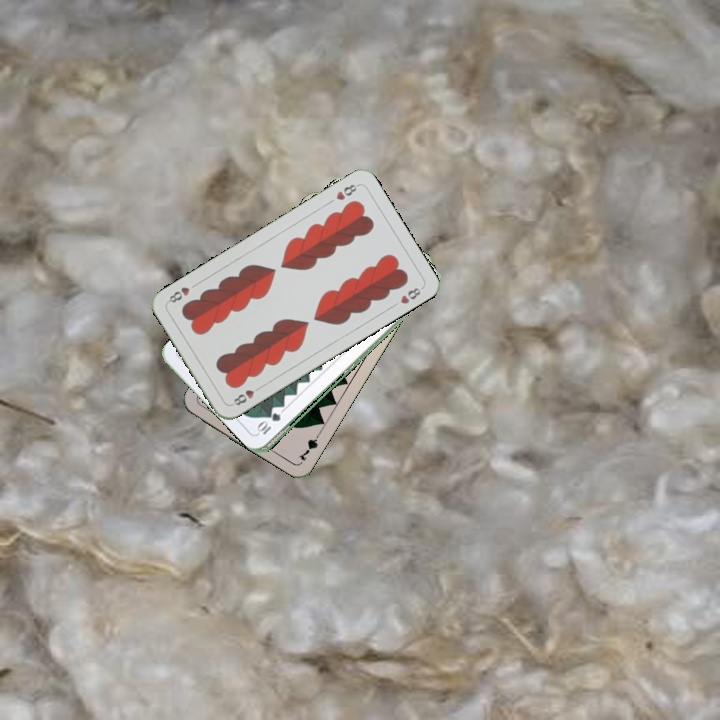G10: (254, 409, 283, 437)
G7: (294, 427, 324, 464)
H8: (228, 382, 264, 408), (332, 180, 362, 203)
